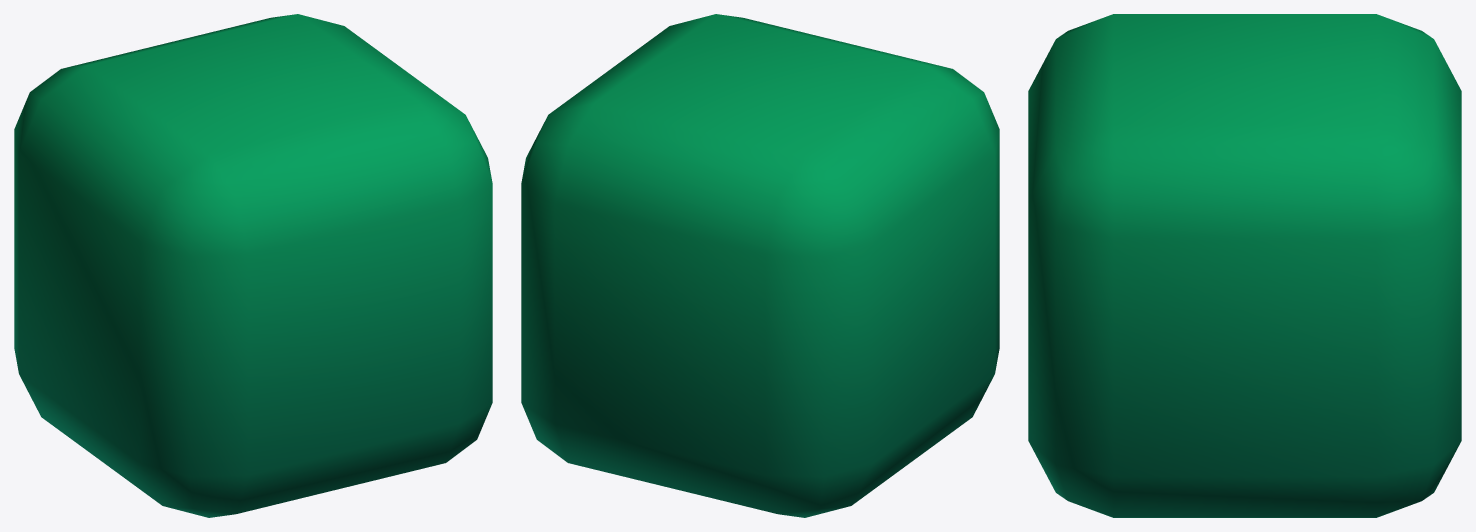
The model's file is Bush_2_B_Color2.fbx.
The picture shows the model from 3 angles, left to right: view 1: azimuth 30°, elevation 25°; view 2: azimuth 150°, elevation 25°; view 3: azimuth 270°, elevation 25°; orthographic projection. The views are drawn at different scales.
Parts seen in each view (by area): view 1: Bush_2_B_Color2; view 2: Bush_2_B_Color2; view 3: Bush_2_B_Color2.
Boxes of the visible parts, <box> form: Bush_2_B_Color2: <box>14,14,492,517</box>; Bush_2_B_Color2: <box>521,14,999,517</box>; Bush_2_B_Color2: <box>1028,14,1461,517</box>.
Bounding box in the file's own units: 0.858 × 0.858 × 0.858.
